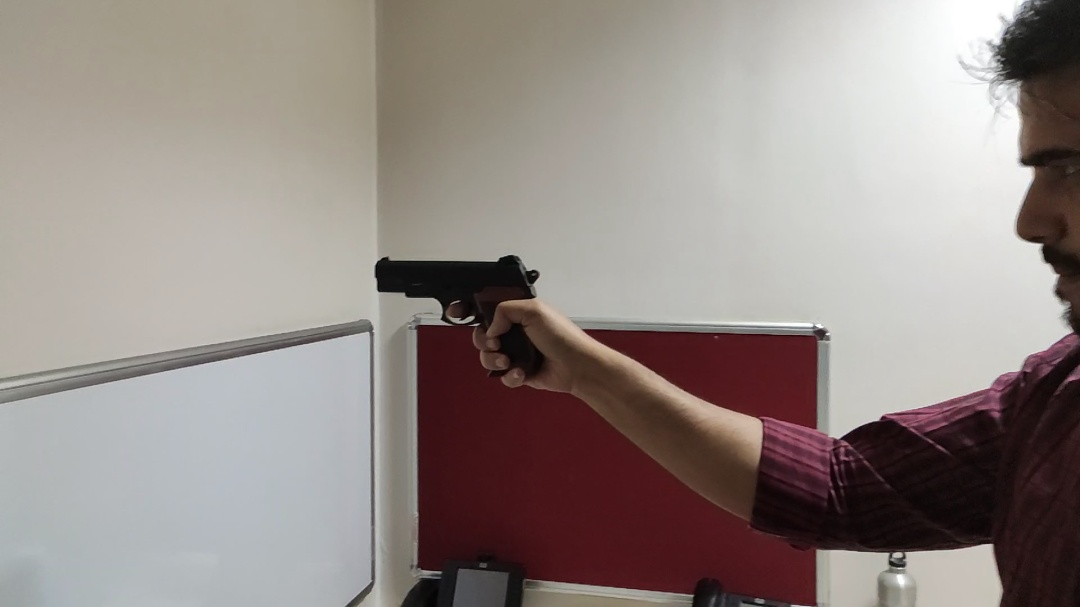gun: (371, 253, 550, 380)
